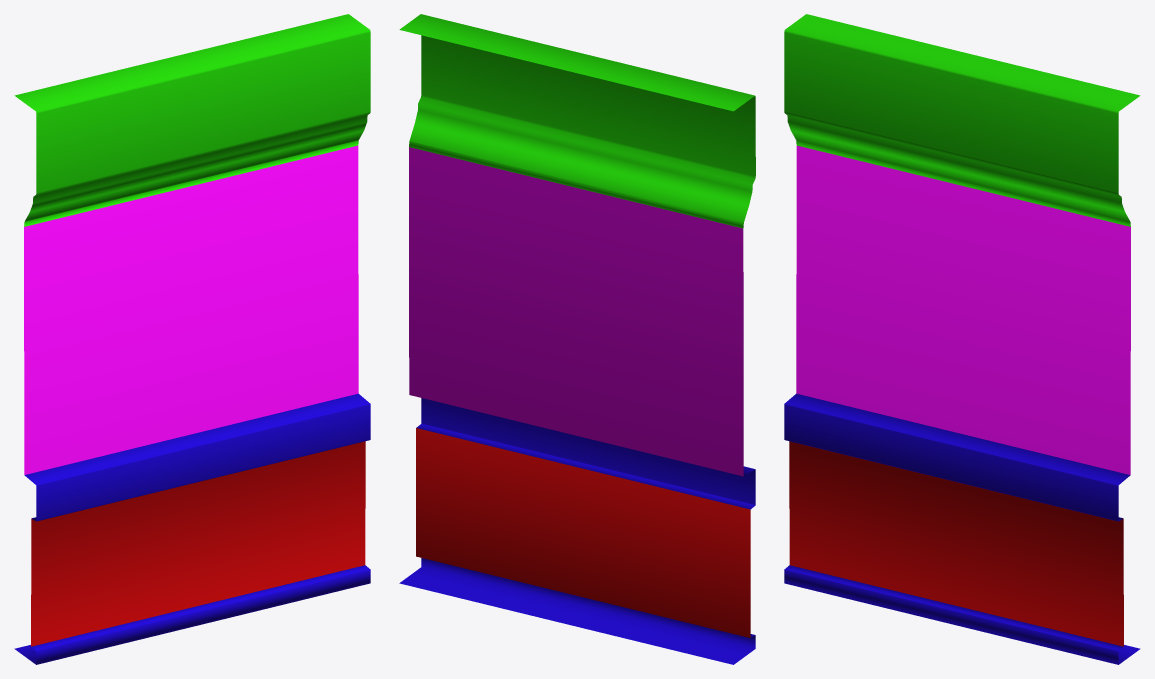
The model's file is InnerWall.fbx.
3 views of the same model, side by side, from view 1: azimuth 30°, elevation 25°; view 2: azimuth 150°, elevation 25°; view 3: azimuth 330°, elevation 25° (orthographic).
Parts seen in each view (by area): view 1: Inner Wall; view 2: Inner Wall; view 3: Inner Wall.
Boxes of the visible parts, x1=… form: Inner Wall: x1=14, y1=14, x2=370, y2=664; Inner Wall: x1=399, y1=14, x2=755, y2=664; Inner Wall: x1=784, y1=14, x2=1140, y2=664.
Bounding box in the file's own units: 261 × 413 × 30.
